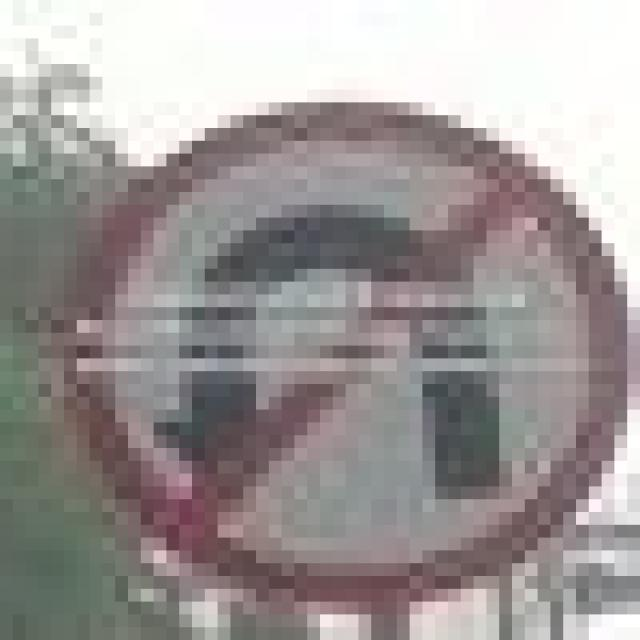U_TURN_PROHIBITED: (51, 77, 614, 589)
